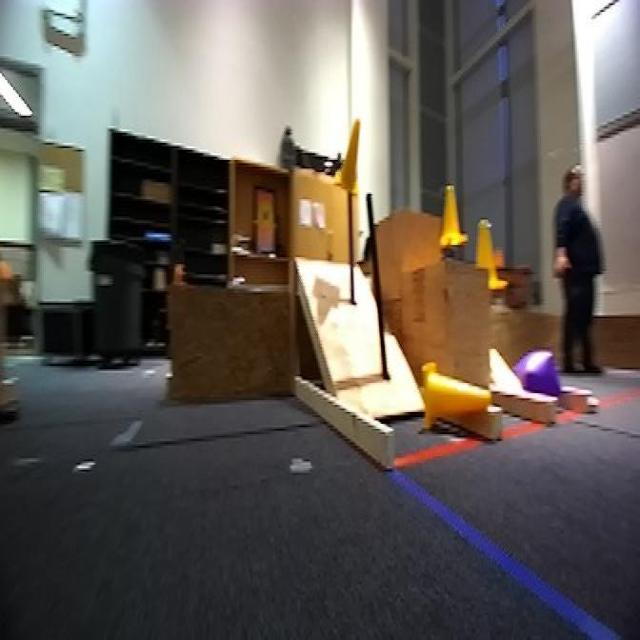frc_cone: (418, 354, 493, 448), (334, 114, 371, 196), (474, 218, 510, 291), (440, 186, 466, 248)
frc_cube: (514, 351, 556, 405)
